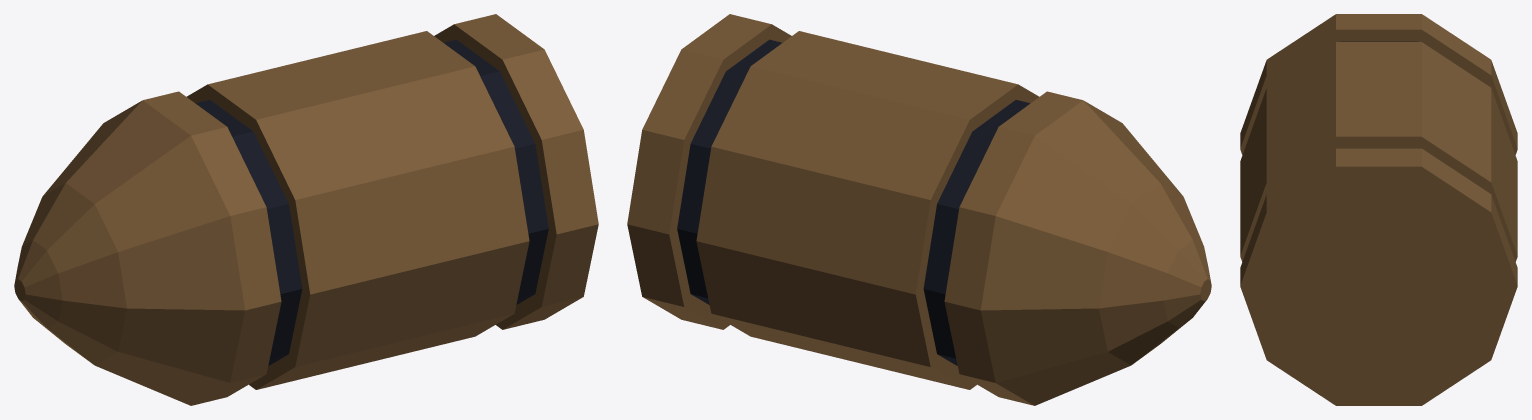
File: Bullet.fbx
3 renders of one model, left to right at view 1: azimuth 30°, elevation 25°; view 2: azimuth 150°, elevation 25°; view 3: azimuth 270°, elevation 25°, orthographic. The views are drawn at different scales.
Visible parts, largest first — view 1: Circle; view 2: Circle; view 3: Circle.
Part boxes in pixels (x1,y1,x2,y2): Circle: [14, 14, 598, 405]; Circle: [627, 14, 1211, 405]; Circle: [1240, 14, 1517, 405].
Size of the model in its own units: 61.92 by 31.96 by 33.6.
Materials: 1 (1 with a texture image).
